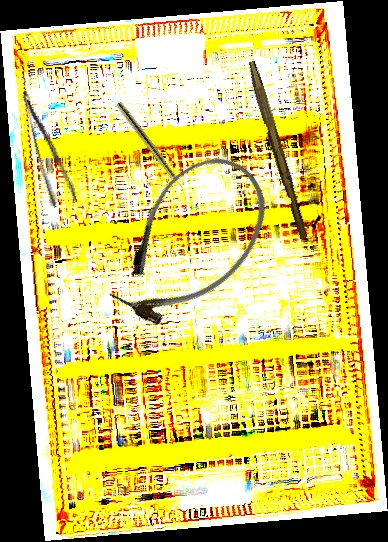Cannula: (89, 134, 291, 349)
Dressing Forceps: (19, 85, 79, 209)
Handpiece: (114, 101, 189, 195)
Scalpel Handle: (241, 60, 313, 240)
